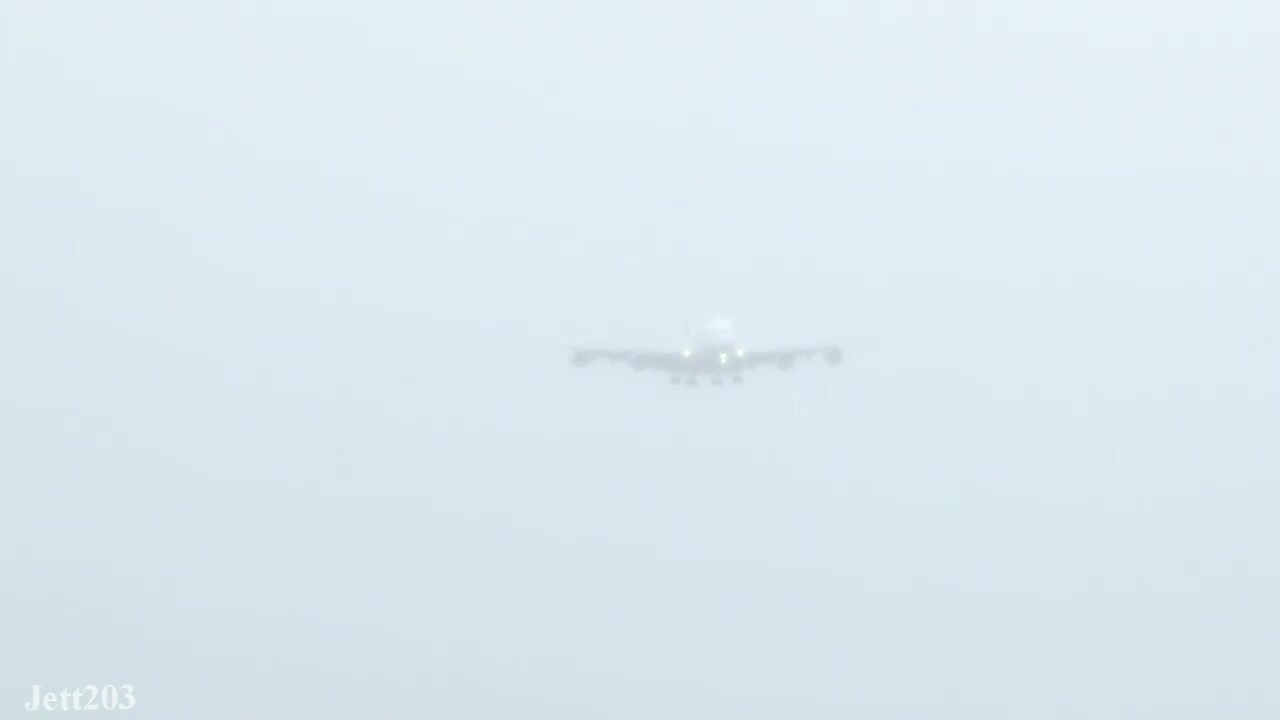aeroplane: (561, 307, 850, 398)
